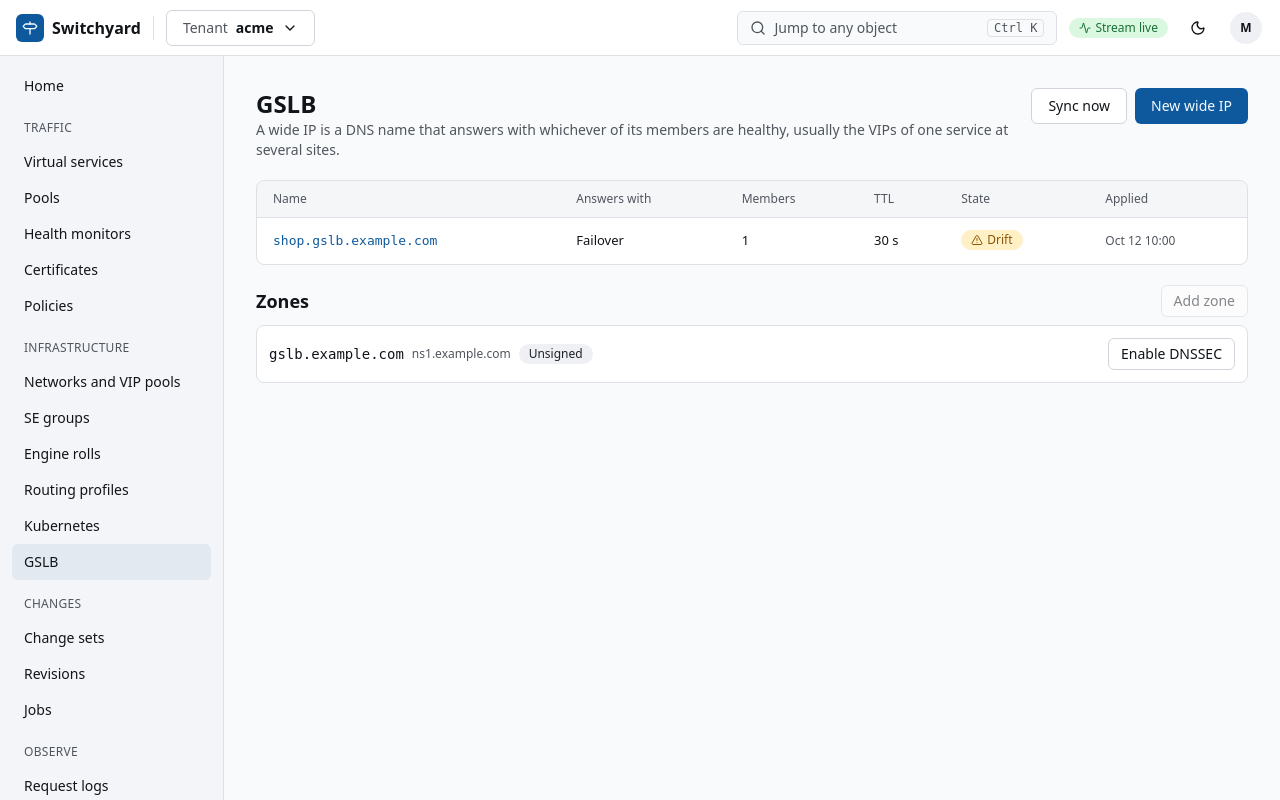
Test case: gslb › shows a server finding on the name
The image size is (1280, 800).
Click the button "New wide IP": [1192, 106] box left=1135, top=88, right=1248, bottom=124
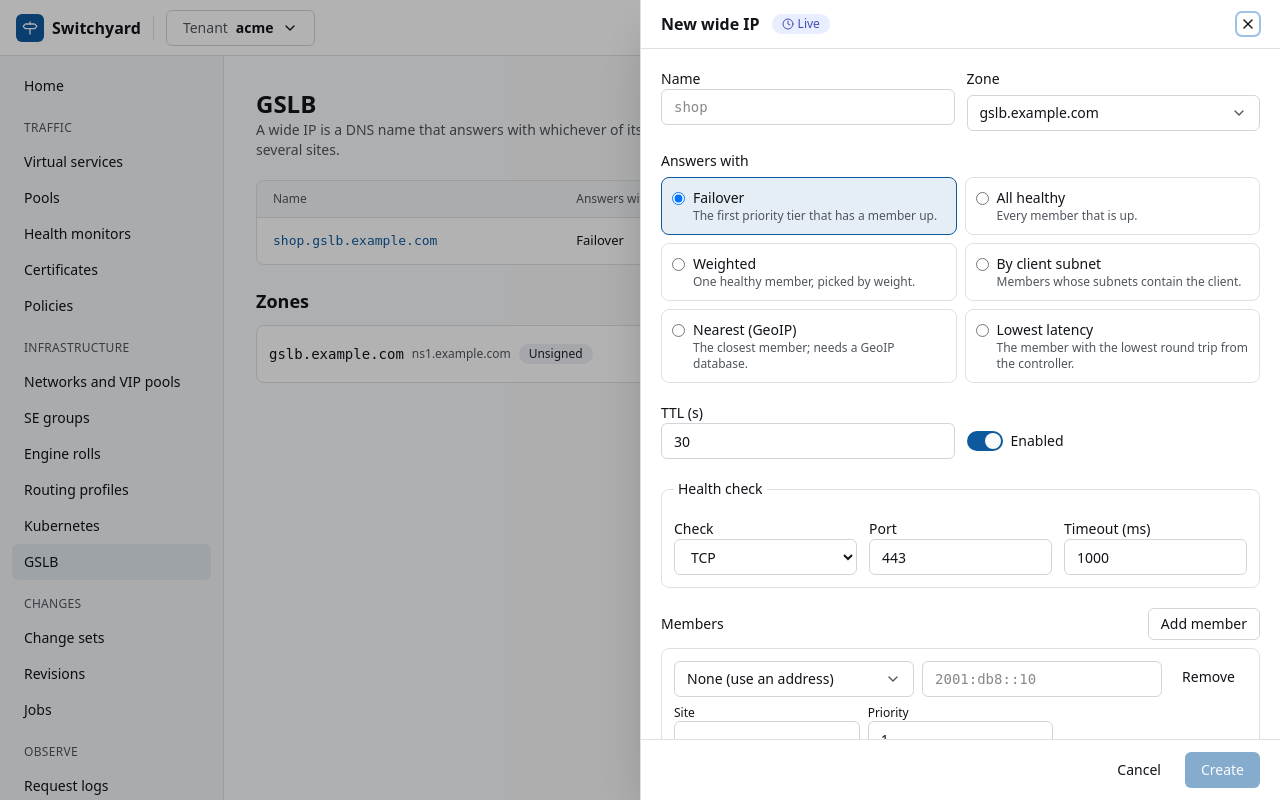
In the field labelled "Name": [808, 107] box left=661, top=89, right=954, bottom=125, type "Bad_Name"
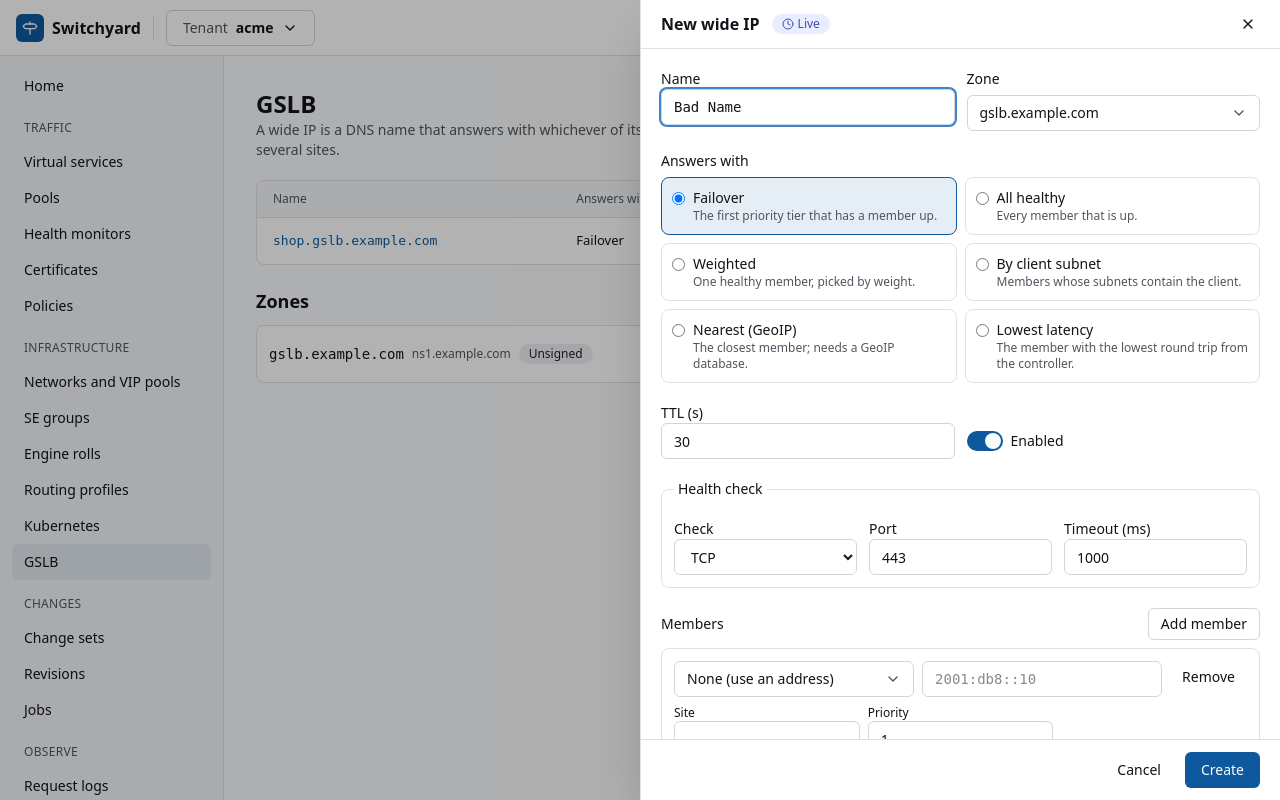
In the field named "Member 1 address": [1042, 679] box left=922, top=661, right=1162, bottom=697, type "2001:db8::1"
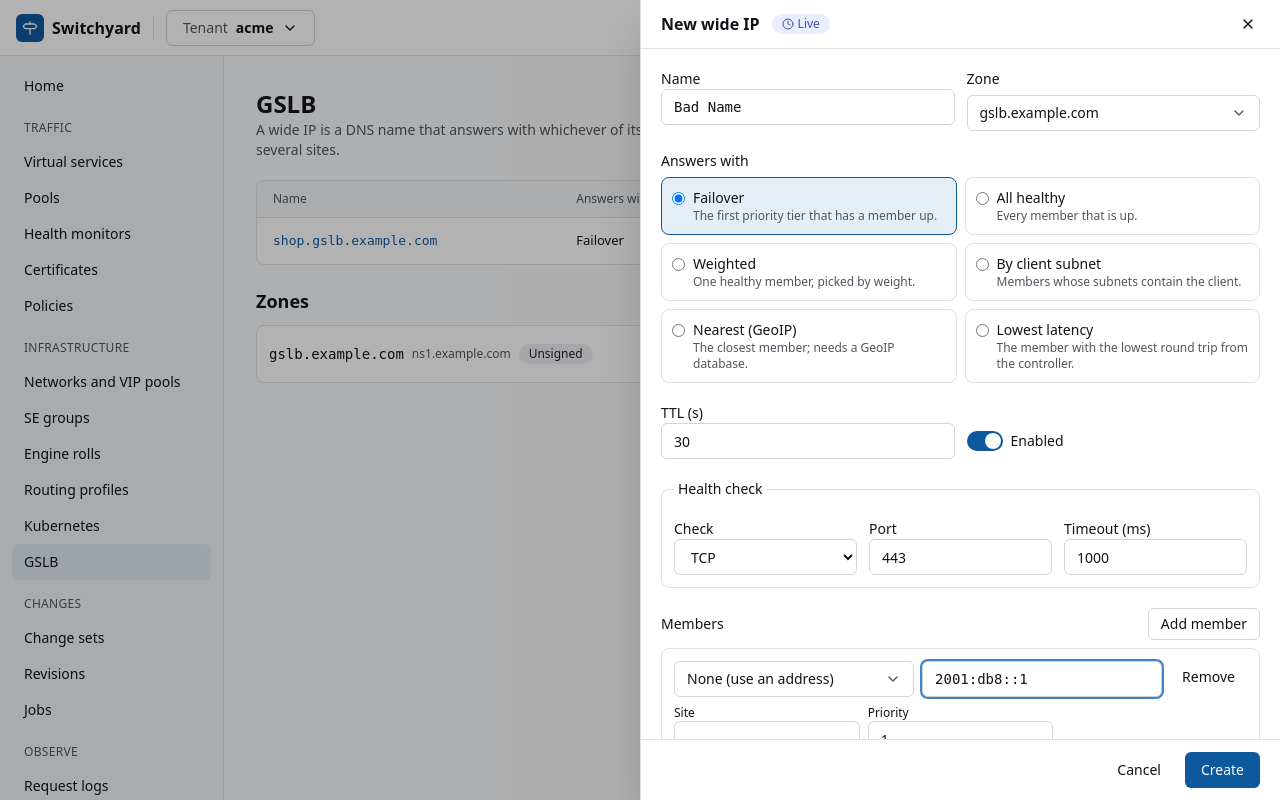
Click the button "Create": [1222, 770] box left=1185, top=752, right=1260, bottom=788
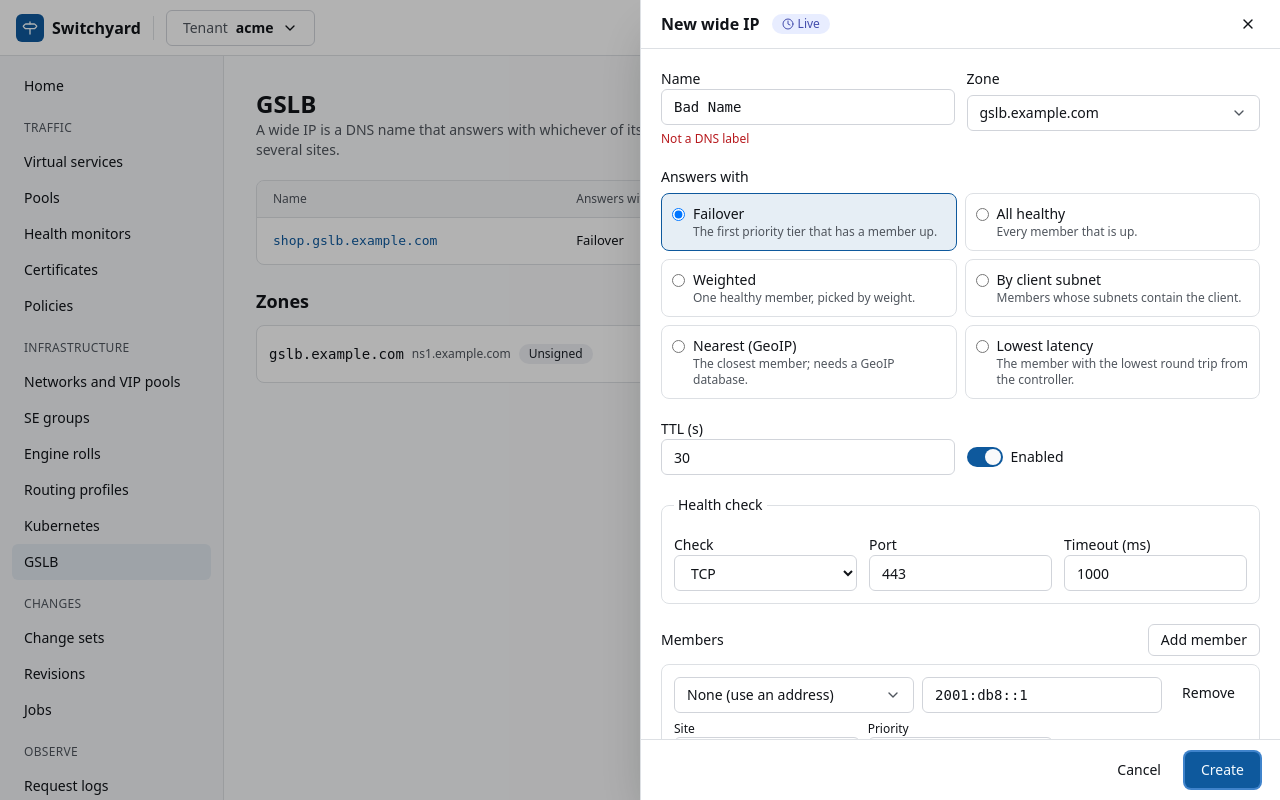
Now the text "Not a DNS label" is shown, box left=661, top=130, right=749, bottom=147
